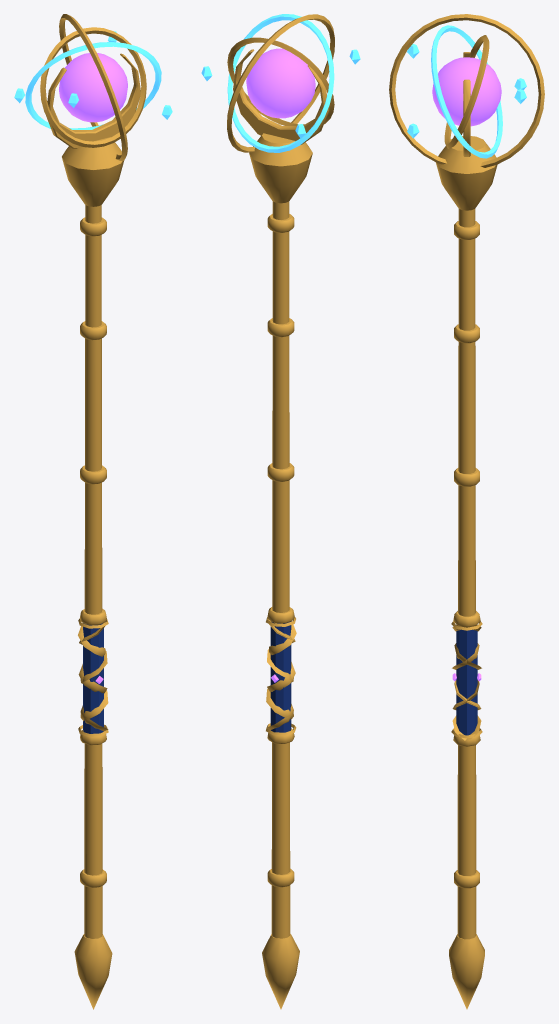
The model's file is astral_scepter.glb.
The picture shows the model from 3 angles, left to right: view 1: azimuth 30°, elevation 25°; view 2: azimuth 150°, elevation 25°; view 3: azimuth 270°, elevation 25°; orthographic projection.
Visible parts, largest first — view 1: astral_scepter; view 2: astral_scepter; view 3: astral_scepter.
Boxes of the visible parts, box(x1,y1,x2,y2) form: astral_scepter: box(14, 14, 172, 1009); astral_scepter: box(201, 14, 360, 1009); astral_scepter: box(389, 14, 544, 1009).
Size of the model in its own units: 0.2125 by 1.72 by 0.2462.
